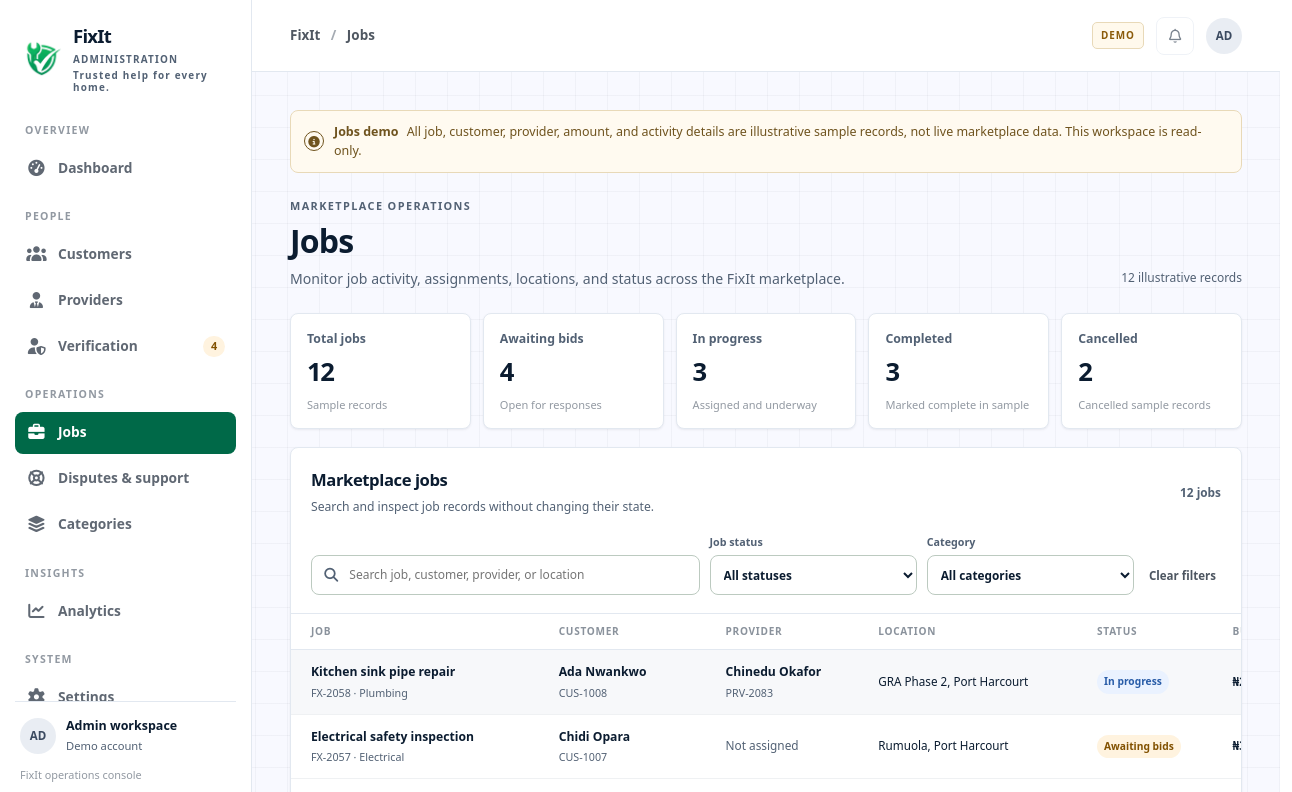
admin jobs workspace › filters jobs by status and category and supports clearing filters
Select "Completed" in the dropdown labelled "Job status". click: (813, 575)
box: [710,555,917,595]
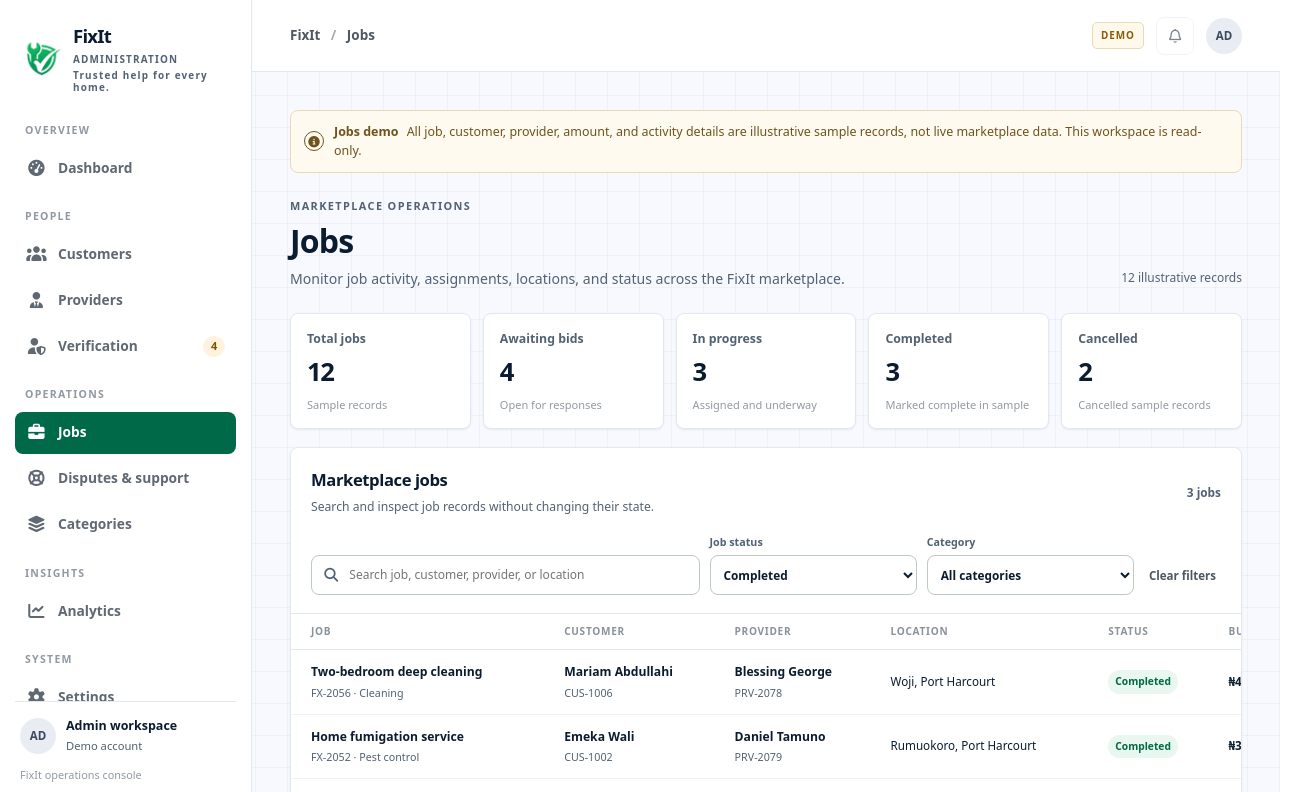
Expected: the text "Two-bedroom deep cleaning" is shown, [311,663,482,680]
Select "Cleaning" in the dropdown named "Job category". click: (1030, 575)
box: [927,555,1134,595]
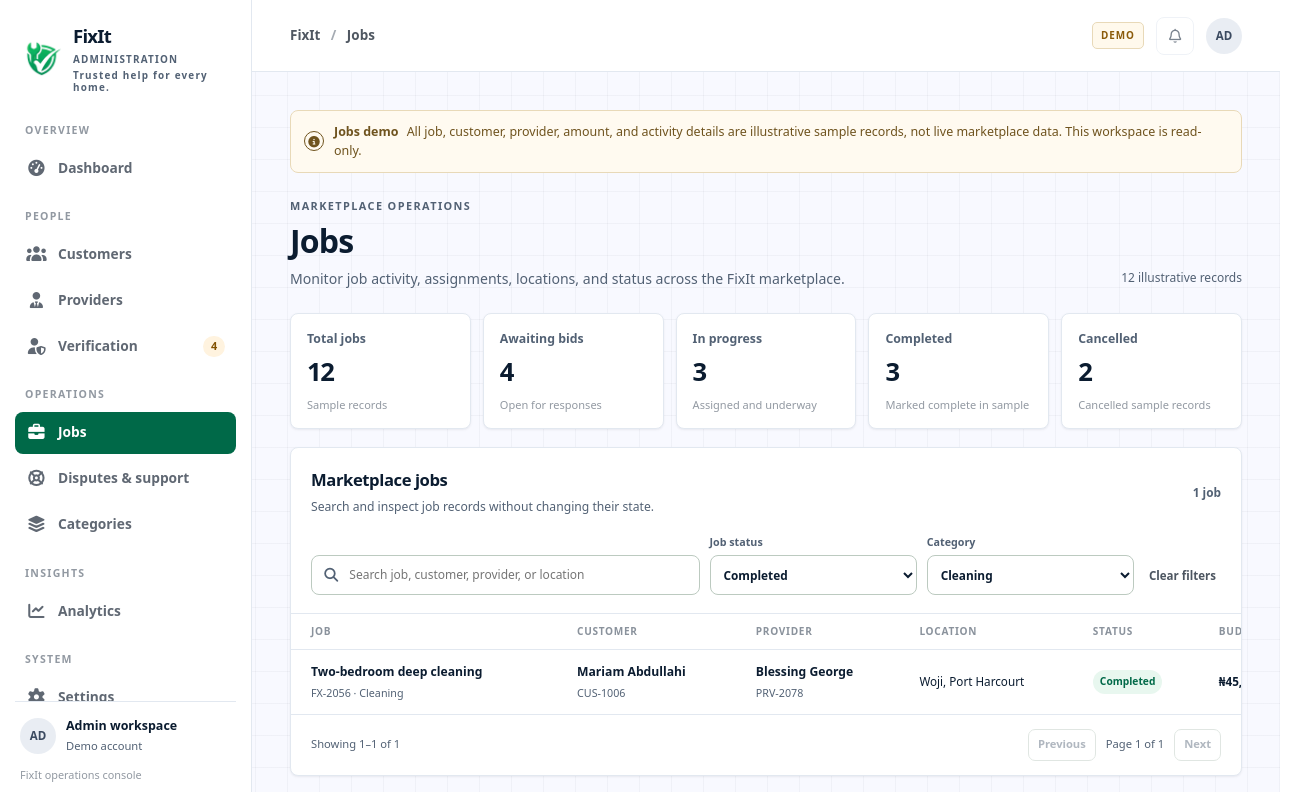
Now the text "Showing 1–1 of 1" is shown, box [311,736,400,753]
Click the button "Clear filters". click: (1182, 575)
box: [1144,555,1221,595]
(page scrolled)
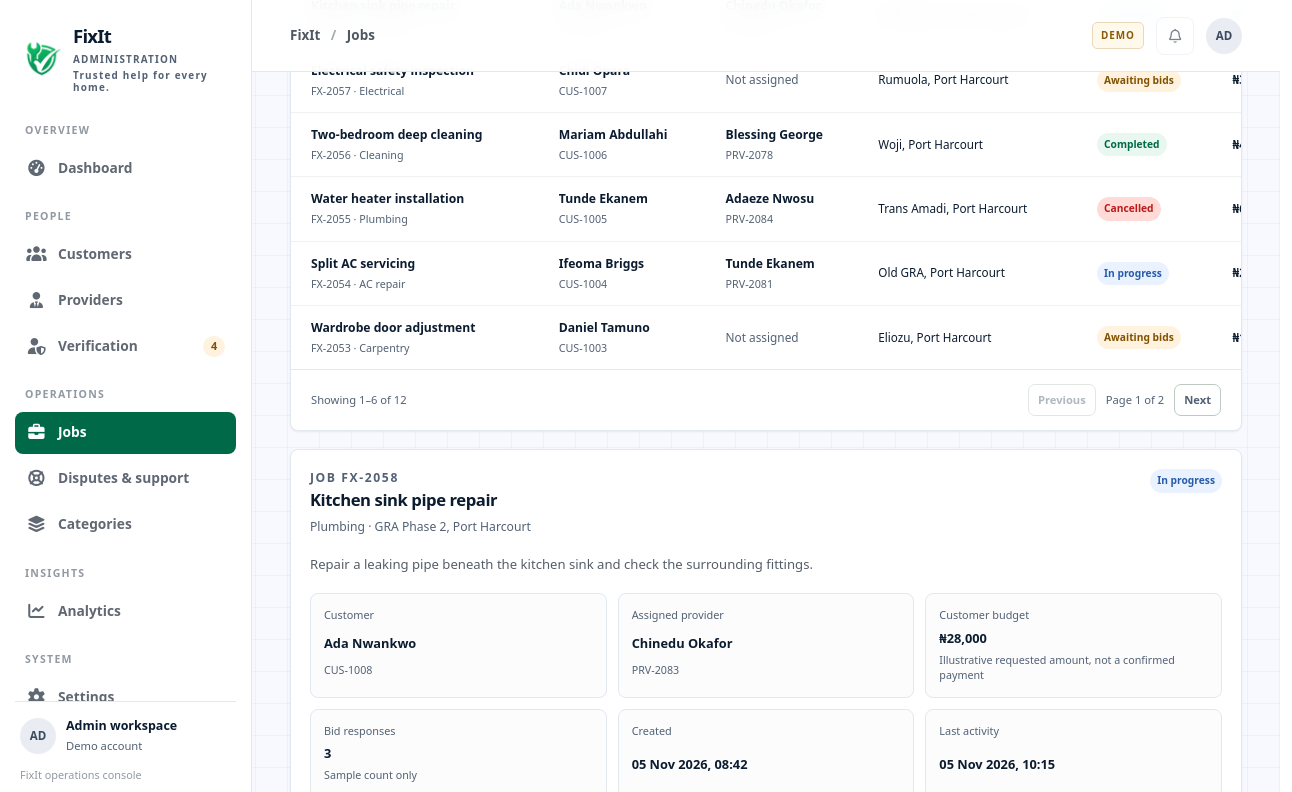
Now the text "Showing 1–6 of 12" is shown, box [311,392,407,409]
